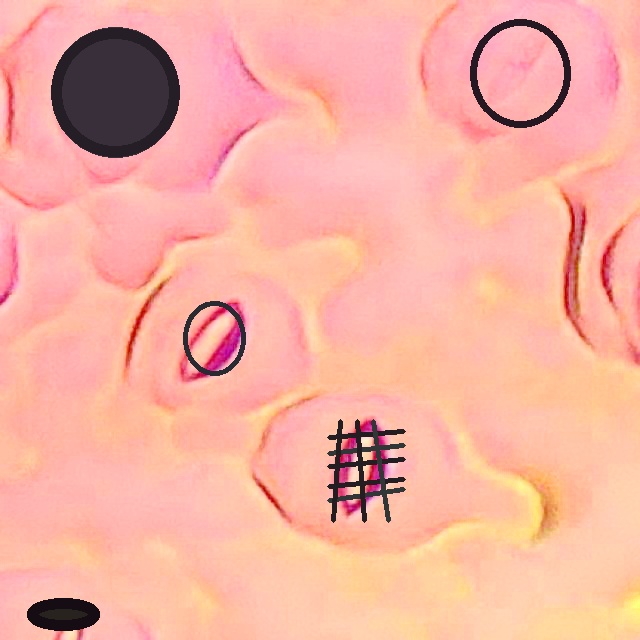open: (51, 27, 179, 157), (468, 19, 571, 126), (327, 419, 405, 522), (182, 301, 245, 376), (27, 598, 99, 630)
